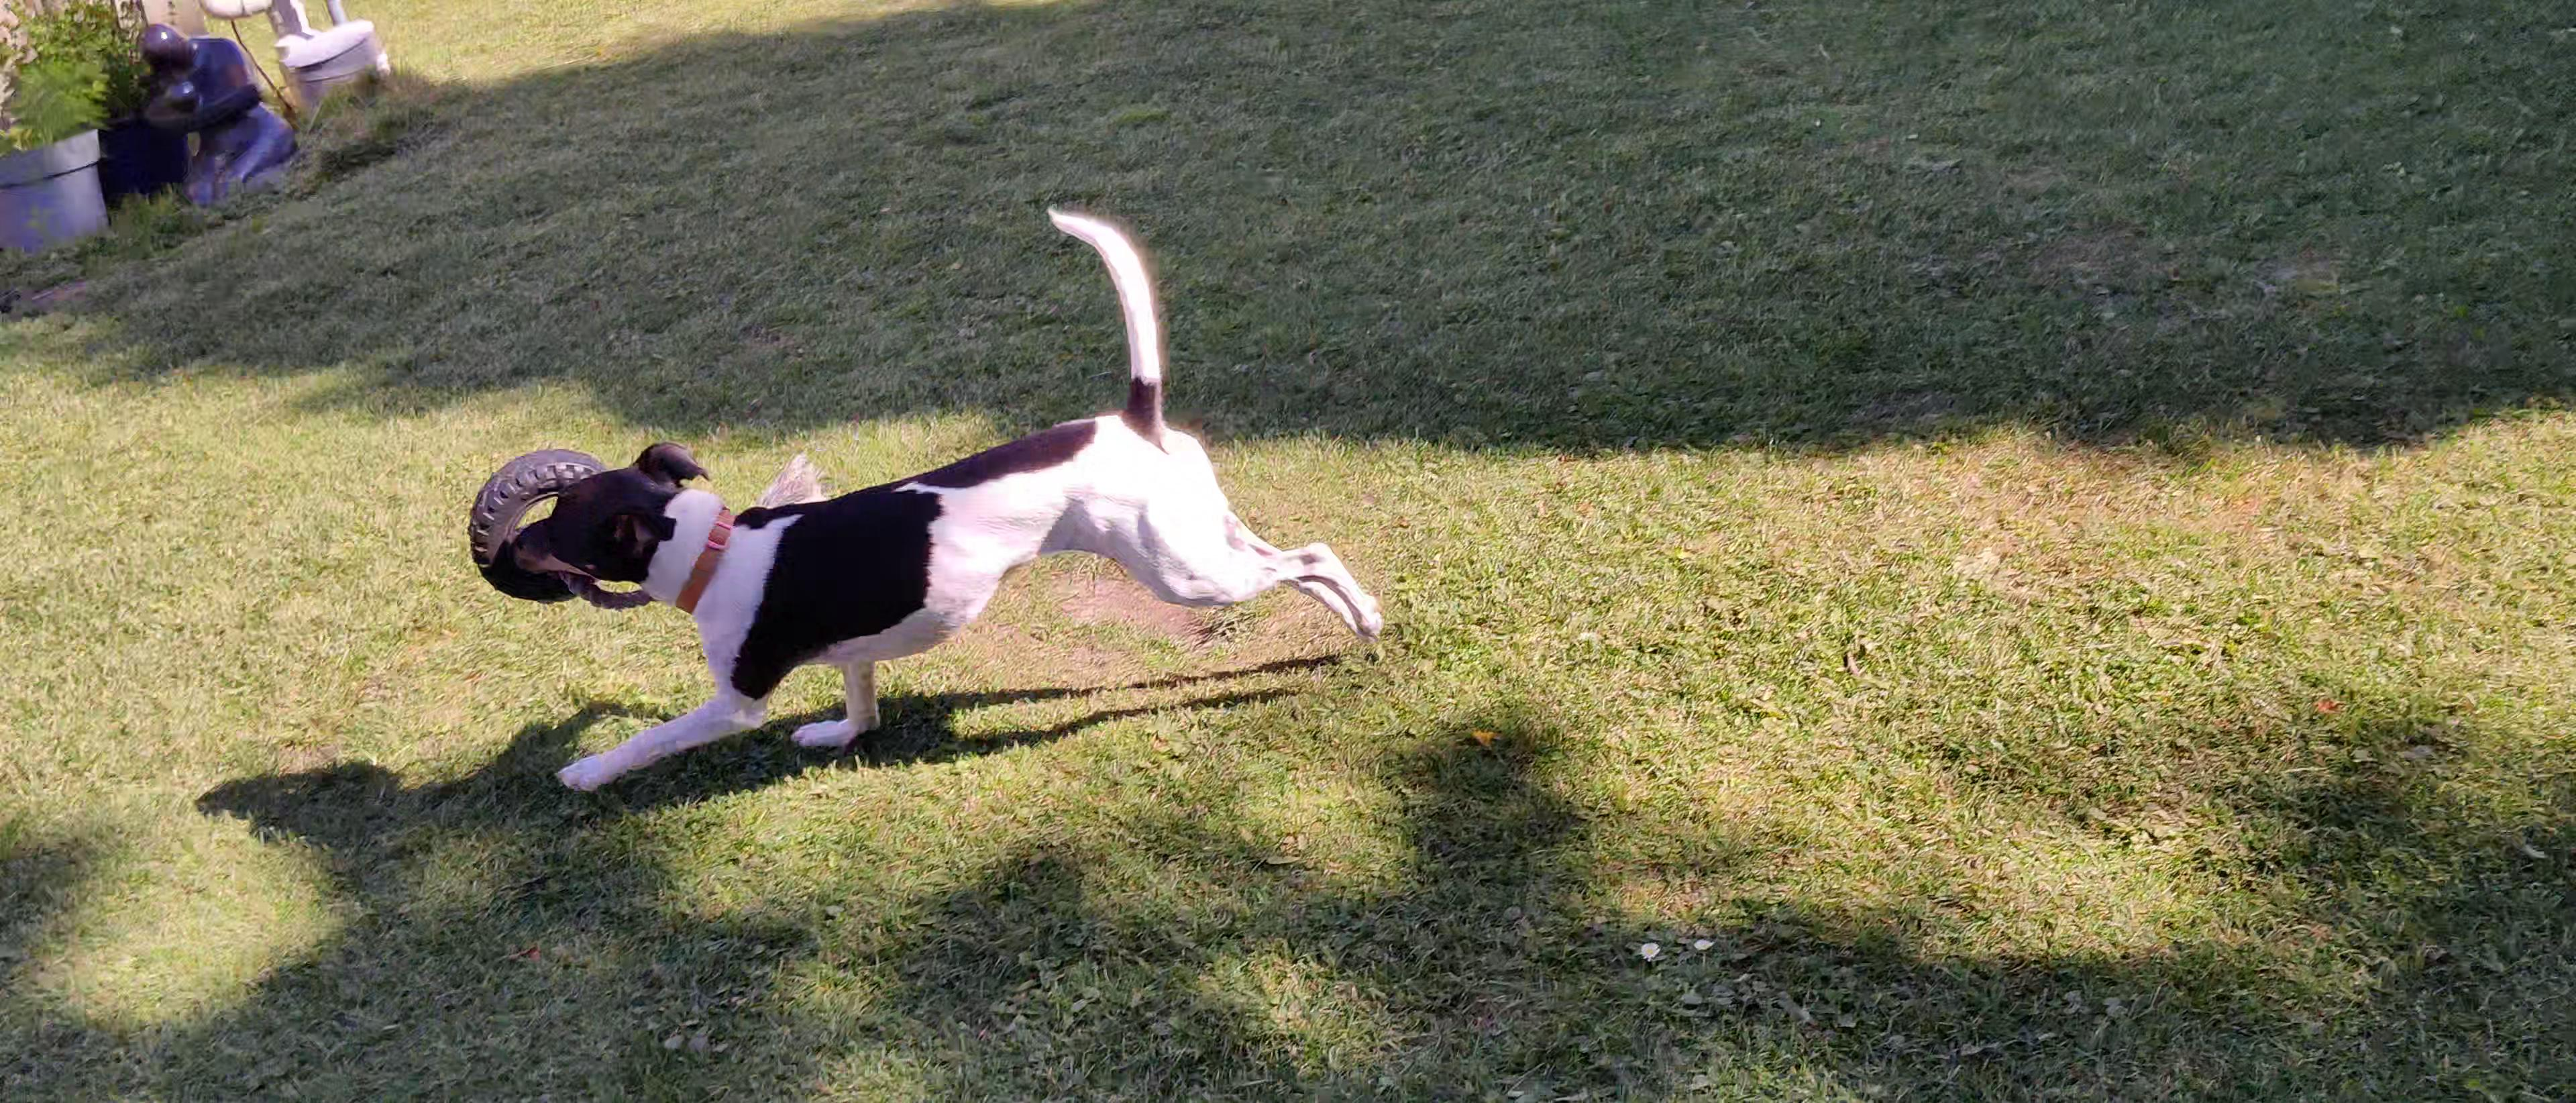Dog: (506, 199, 1390, 801)
